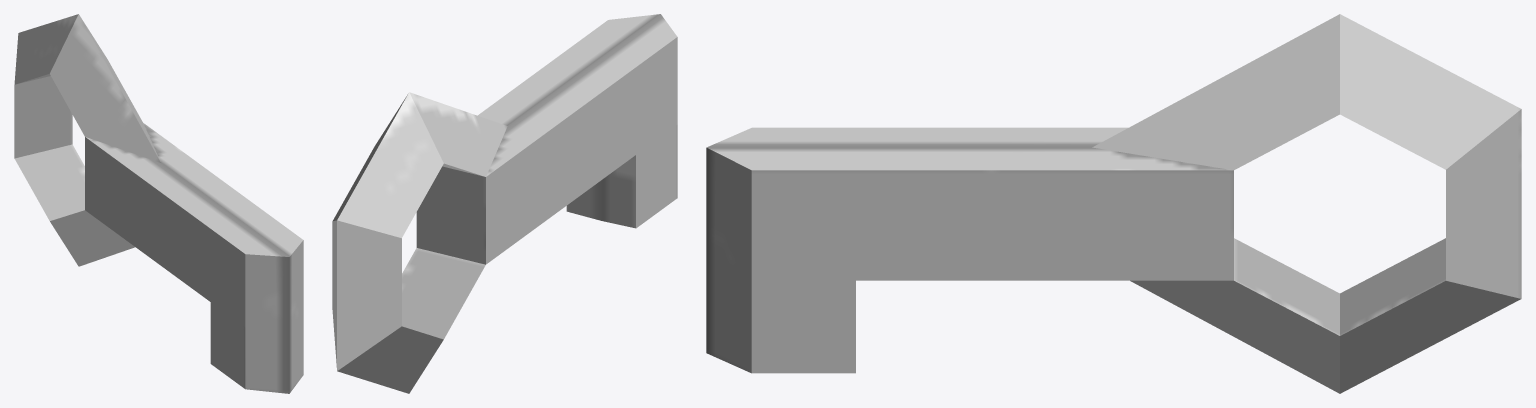
Rendered from Key1.fbx.
3 views of the same model, side by side, from view 1: azimuth 30°, elevation 25°; view 2: azimuth 150°, elevation 25°; view 3: azimuth 270°, elevation 25° (orthographic). The views are drawn at different scales.
Parts seen in each view (by area): view 1: Key; view 2: Key; view 3: Key.
Boxes of the visible parts, x1,y1,x2,y2 form: Key: (14,14,303,393); Key: (332,14,677,393); Key: (706,14,1521,393).
Size of the model in its own units: 17.32 by 72 by 140.
